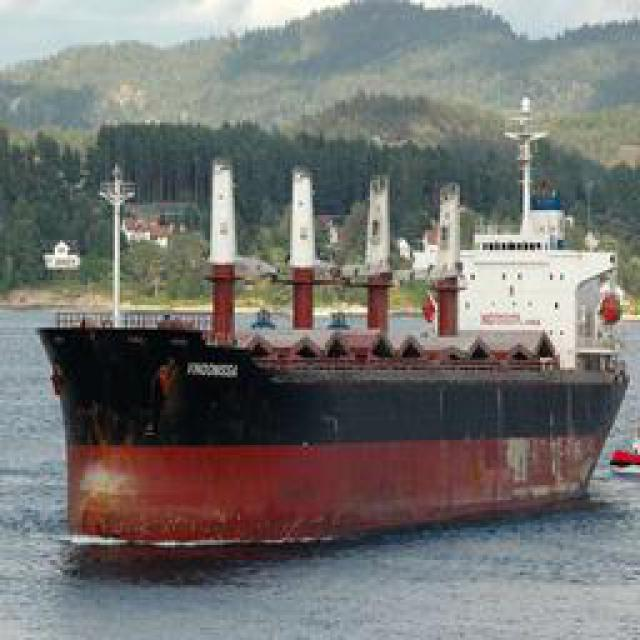Ship: (39, 249, 629, 569)
